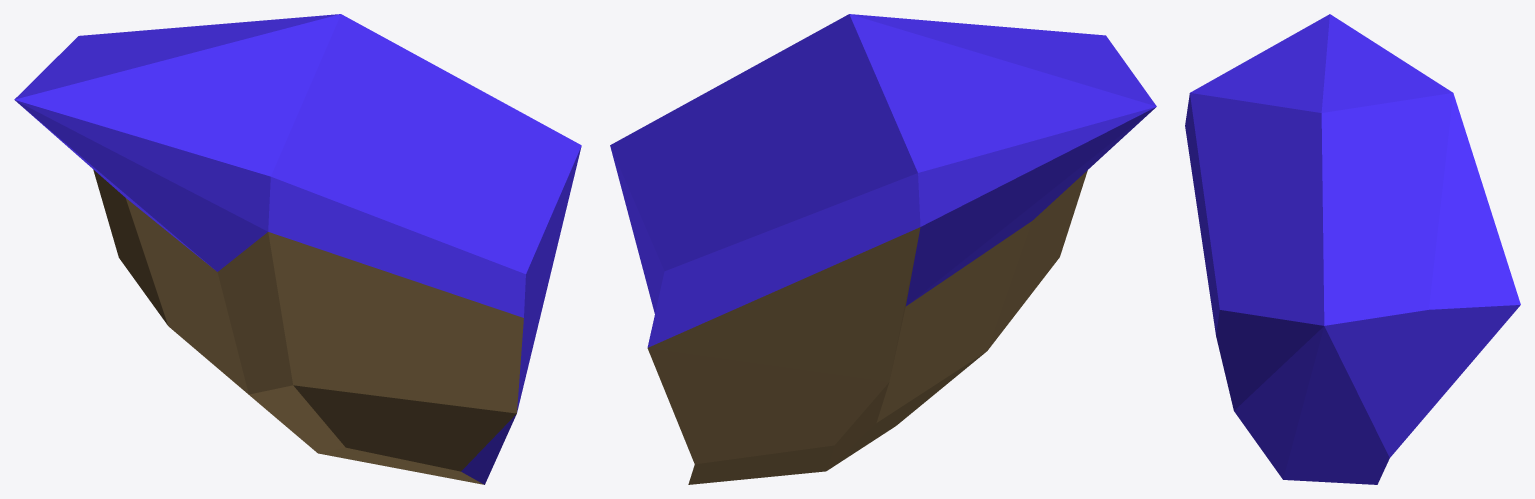
The model's file is cristal_broken2.fbx.
3 views of the same model, side by side, from view 1: azimuth 30°, elevation 25°; view 2: azimuth 150°, elevation 25°; view 3: azimuth 270°, elevation 25° (orthographic). The views are drawn at different scales.
Visible parts, largest first — view 1: Object028; view 2: Object028; view 3: Object028.
Boxes of the visible parts, bbox=[...] form: Object028: bbox=[14, 14, 581, 484]; Object028: bbox=[610, 14, 1156, 484]; Object028: bbox=[1185, 14, 1520, 484].
Bounding box in the file's own units: 10.99 × 8.98 × 8.28.
